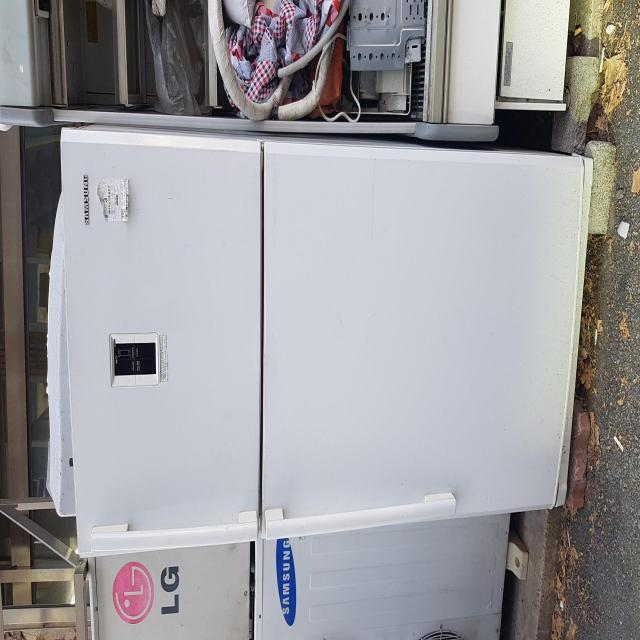refrigerator: (57, 125, 598, 565)
